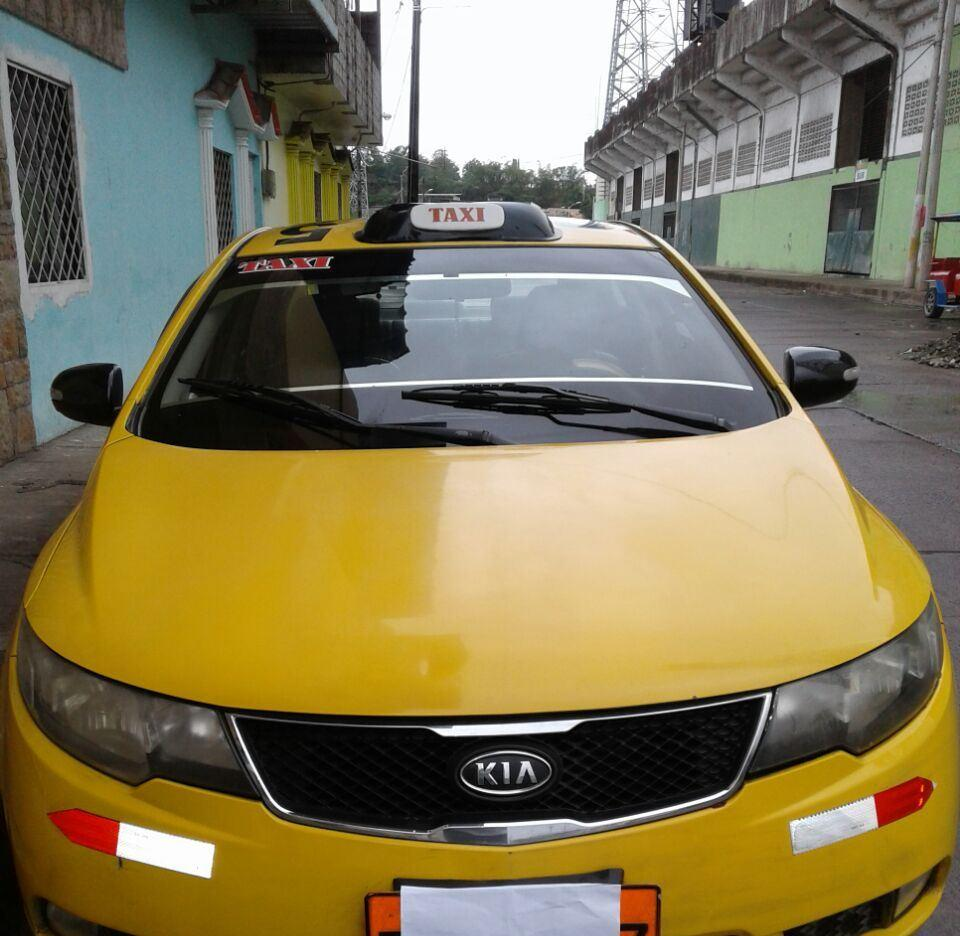taxi: (13, 136, 960, 936)
